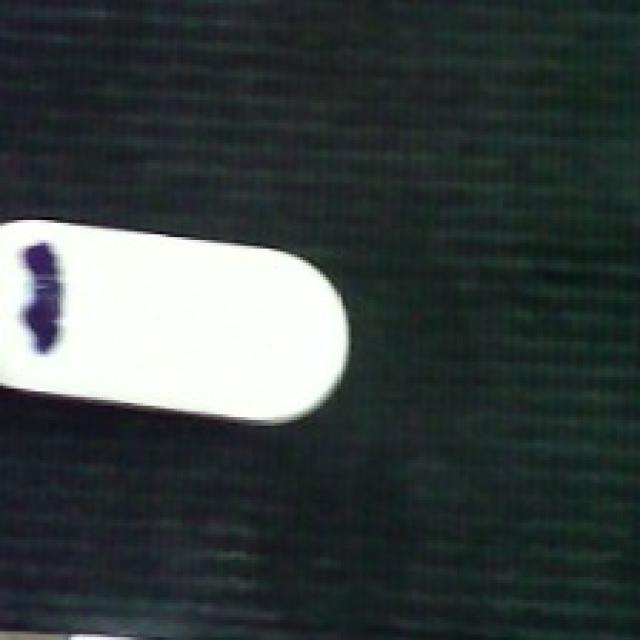defected: (0, 217, 357, 423)
